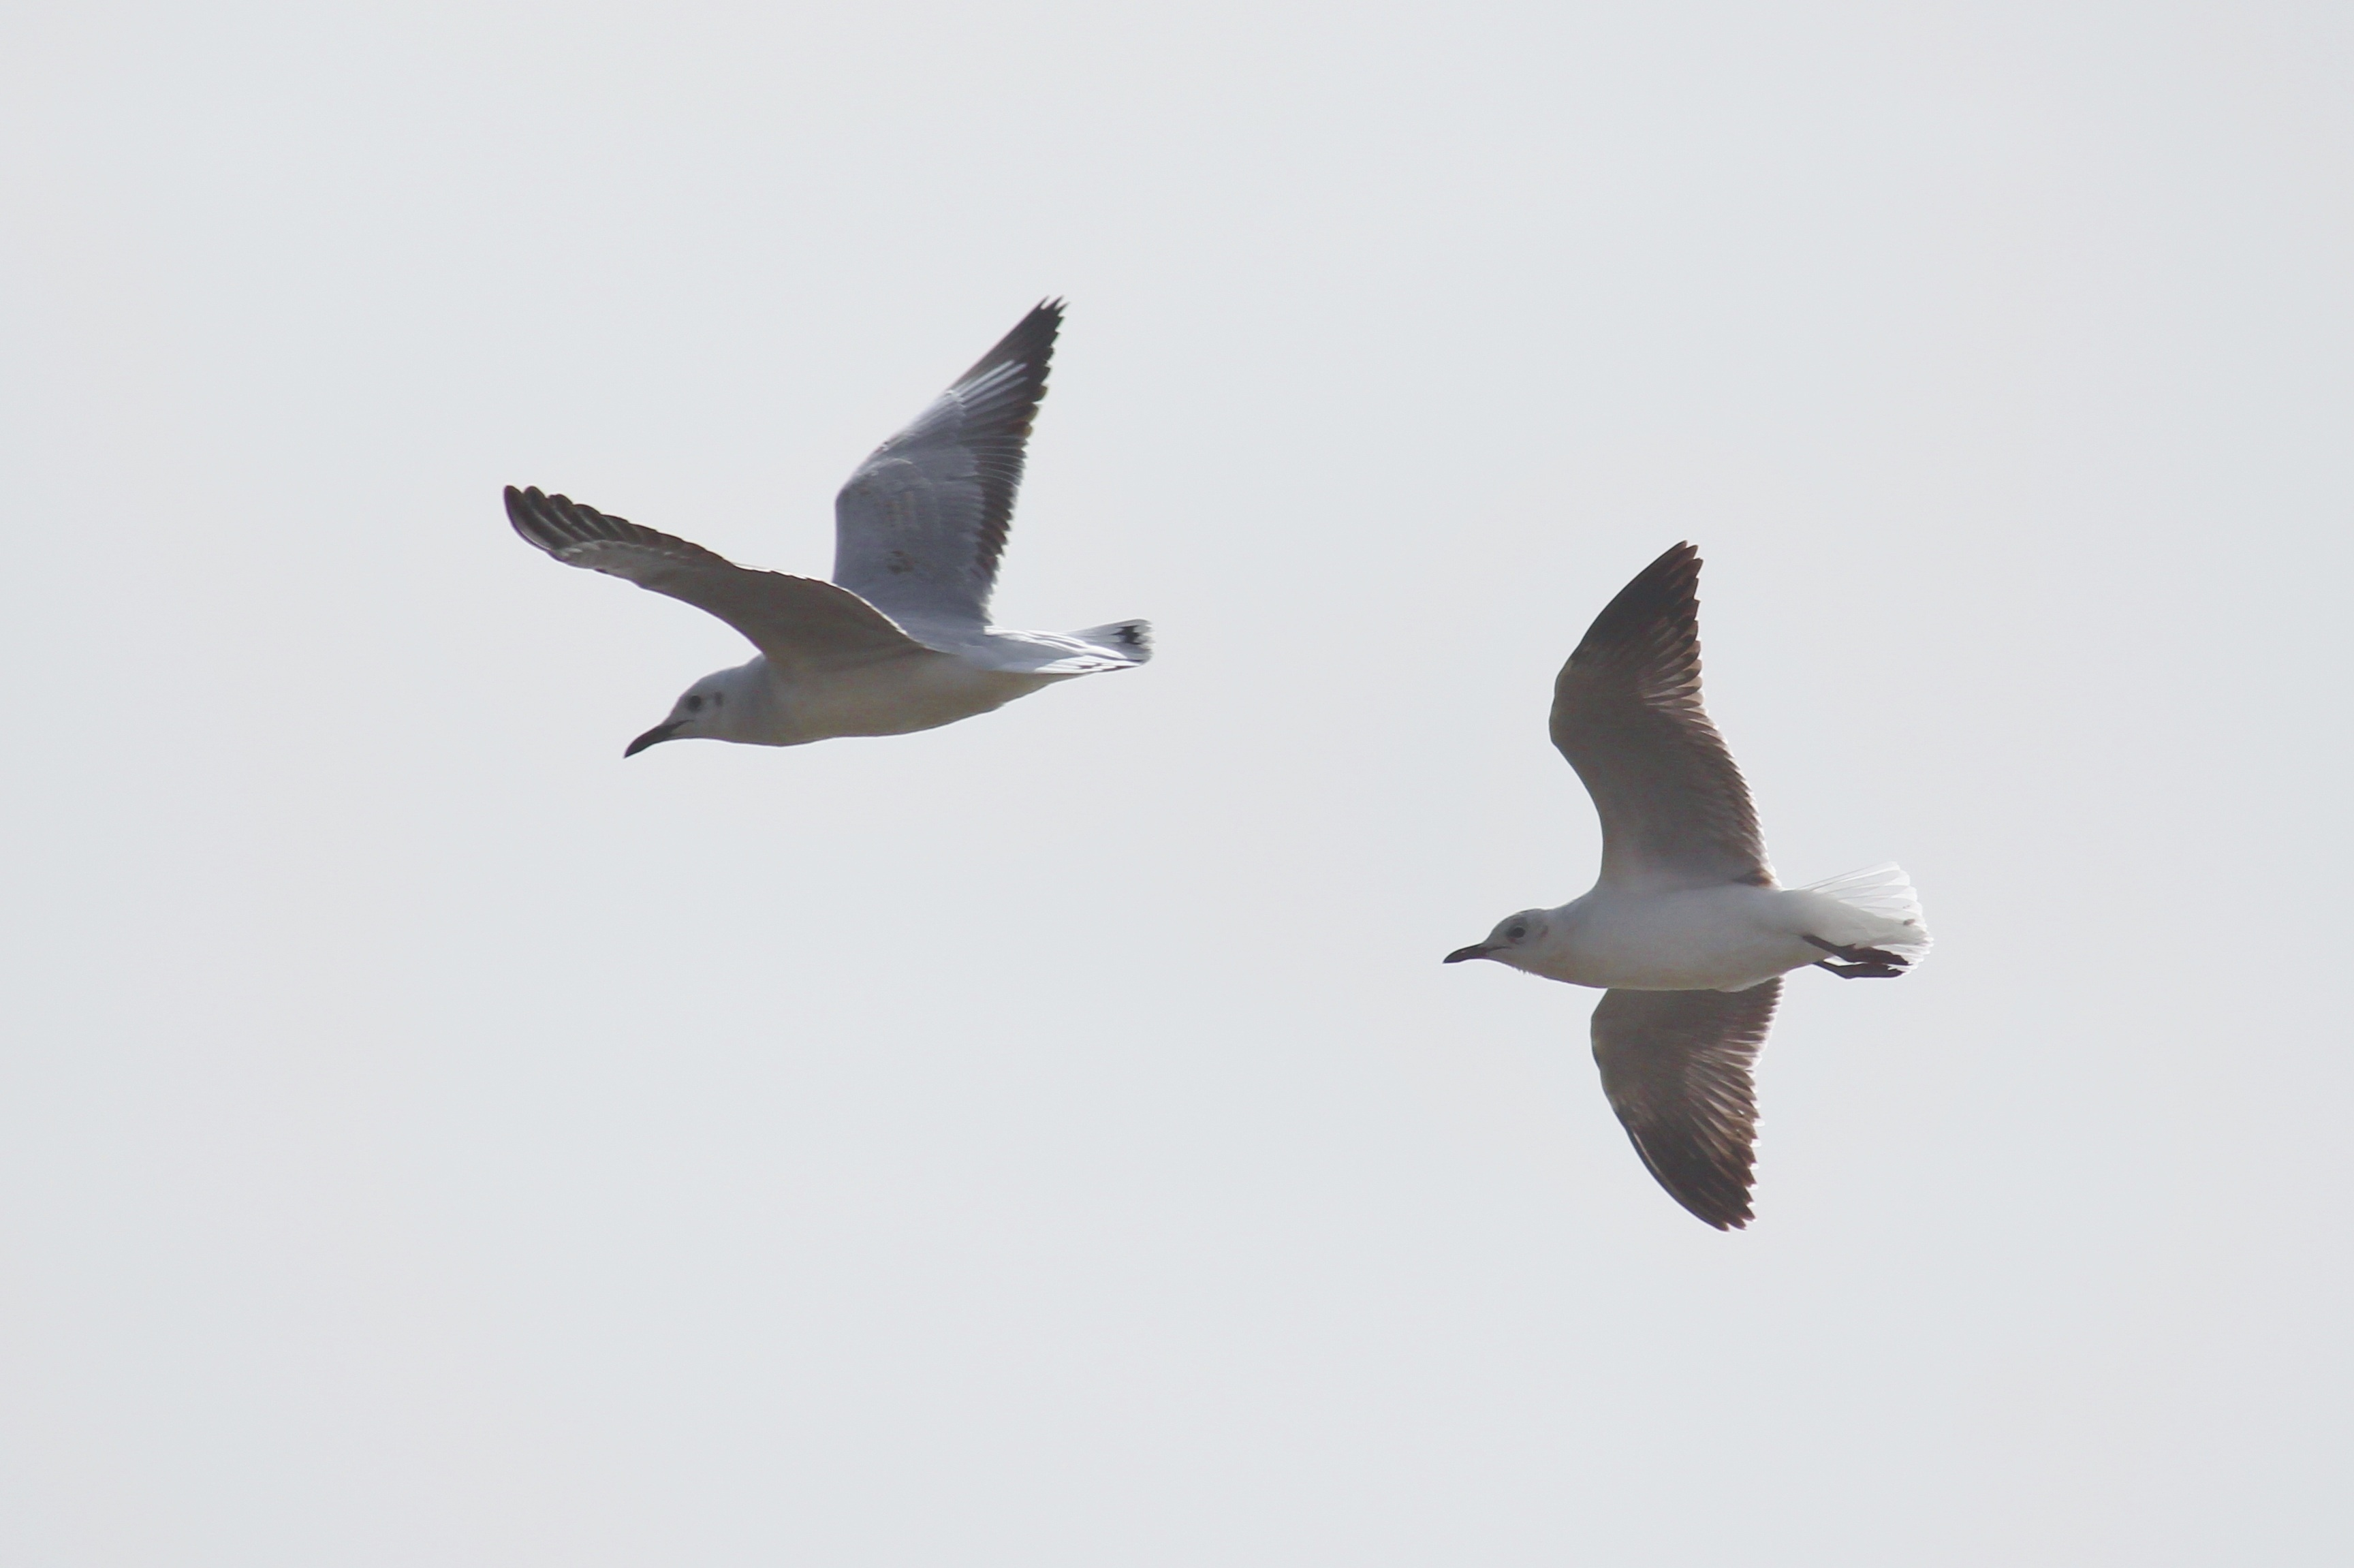bird: (488, 294, 1166, 812), (1442, 535, 1930, 1241)
